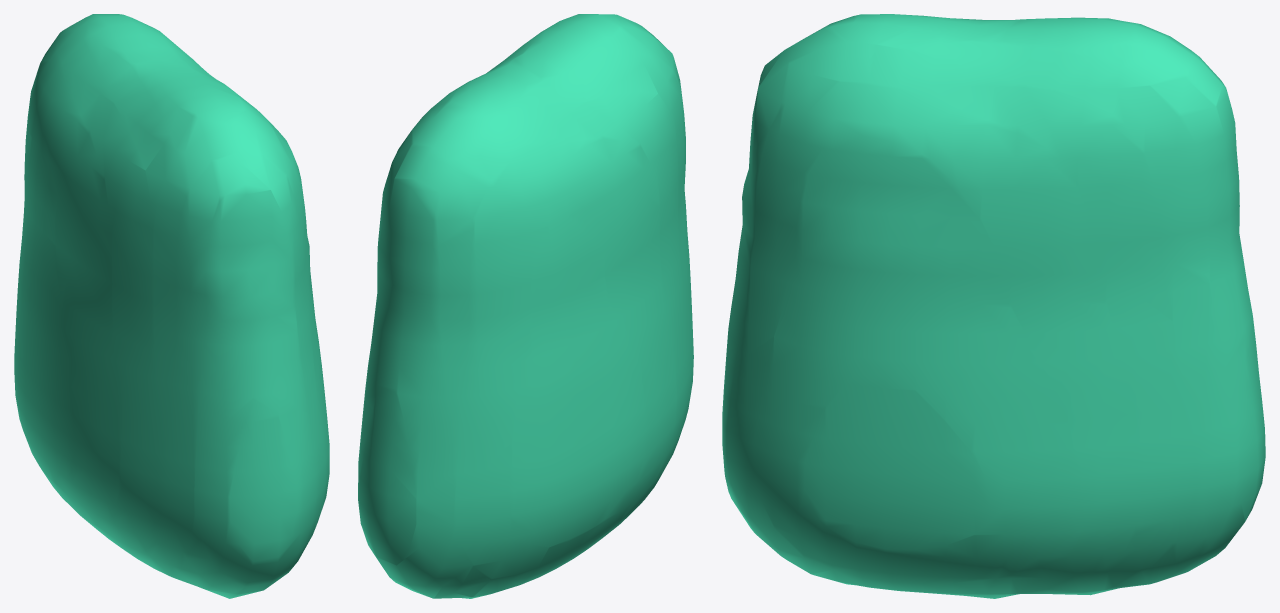
3 views of the same model, side by side, from view 1: azimuth 30°, elevation 25°; view 2: azimuth 150°, elevation 25°; view 3: azimuth 270°, elevation 25° (orthographic). The views are drawn at different scales.
Parts seen in each view (by area): view 1: Liquid_Domain; view 2: Liquid_Domain; view 3: Liquid_Domain.
Boxes of the visible parts, x1,y1,x2,y2 form: Liquid_Domain: (14, 14, 329, 598); Liquid_Domain: (358, 14, 693, 598); Liquid_Domain: (722, 14, 1265, 598).
Bounding box in the file's own units: 1.31 × 2.78 × 2.47.
